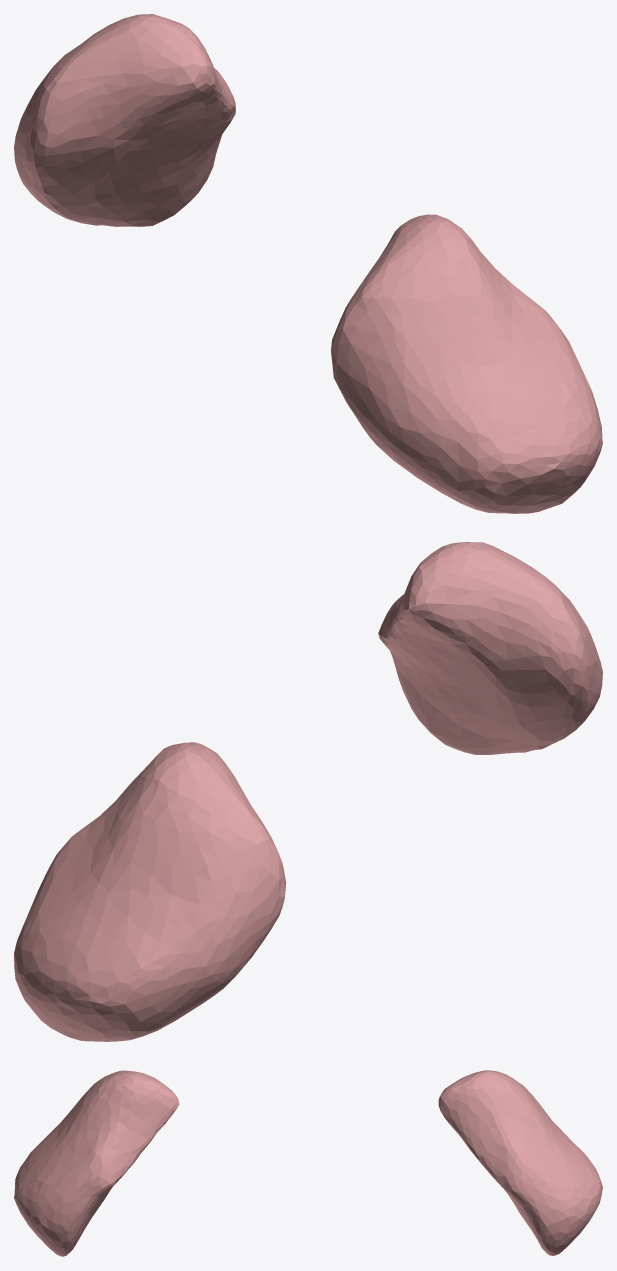
The picture shows the model from 3 angles, top to bottom: view 1: azimuth 30°, elevation 25°; view 2: azimuth 150°, elevation 25°; view 3: azimuth 270°, elevation 25°; orthographic projection. The views are drawn at different scales.
Visible parts, largest first — view 1: 733.obj; view 2: 733.obj; view 3: 733.obj.
Boxes of the visible parts, left/top/right/bottom form: 733.obj: left=14, top=14, right=602, bottom=513; 733.obj: left=14, top=542, right=602, bottom=1041; 733.obj: left=14, top=1070, right=602, bottom=1256.
Bounding box in the file's own units: 1315 × 1479 × 4808.
